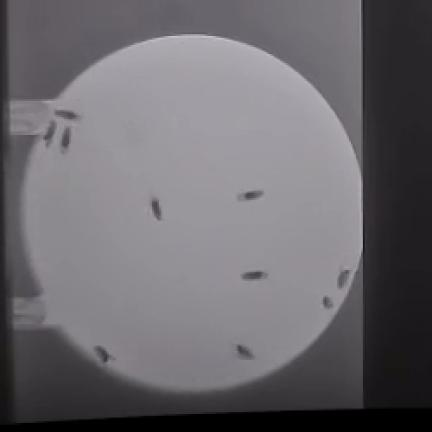fly: (94, 346, 114, 363), (44, 121, 57, 147), (61, 126, 72, 152), (54, 110, 81, 120), (237, 344, 254, 359), (151, 198, 162, 221), (242, 270, 267, 280), (239, 191, 264, 201), (337, 270, 350, 287), (324, 297, 333, 309)
